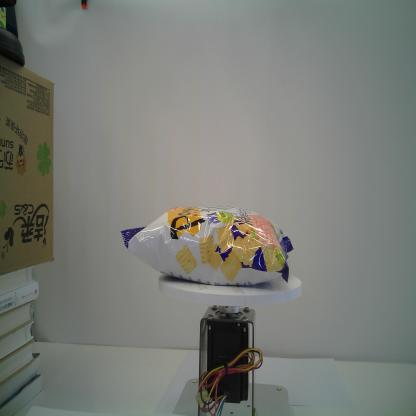Puffed Food: (120, 206, 293, 288)
